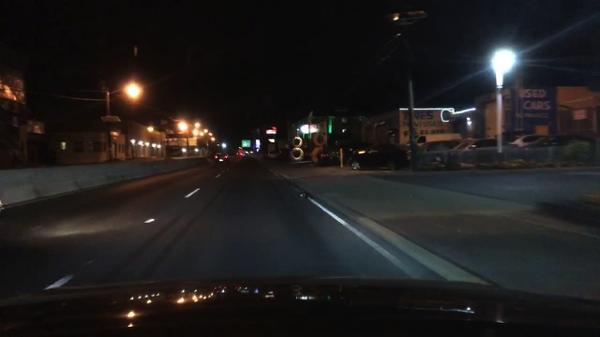car: (403, 132, 462, 160), (350, 144, 412, 170), (404, 139, 462, 165), (521, 134, 595, 148), (319, 140, 357, 167), (451, 136, 519, 151), (506, 134, 543, 147), (213, 151, 231, 164), (236, 152, 246, 164), (267, 150, 279, 159), (246, 149, 255, 155)
traffic sign: (569, 110, 587, 120), (242, 140, 251, 147)
